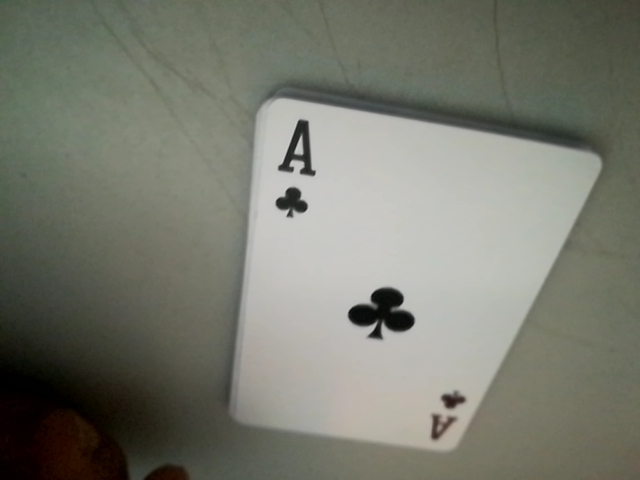mh a: (255, 104, 324, 231), (422, 381, 475, 452)
